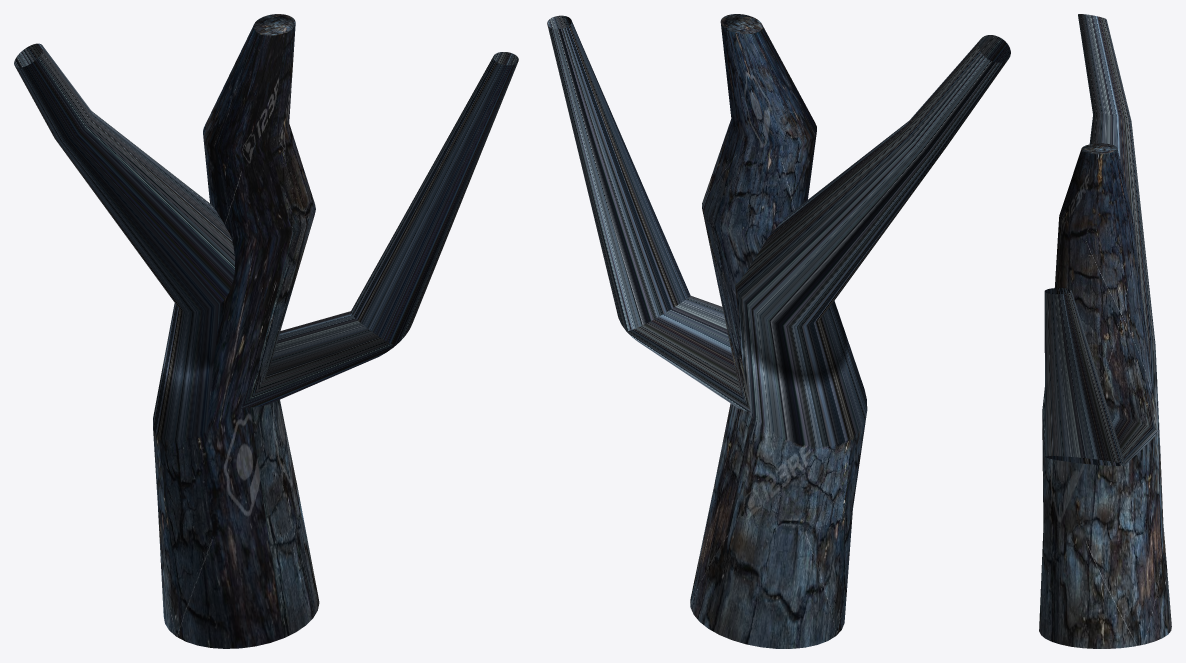
Rendered from Arvores02.fbx.
3 renders of one model, left to right at view 1: azimuth 30°, elevation 25°; view 2: azimuth 150°, elevation 25°; view 3: azimuth 270°, elevation 25°, orthographic. The views are drawn at different scales.
Parts seen in each view (by area): view 1: Cylinder.001; view 2: Cylinder.001; view 3: Cylinder.001.
Boxes of the visible parts, bbox=[...] form: Cylinder.001: bbox=[14, 14, 518, 648]; Cylinder.001: bbox=[547, 14, 1010, 648]; Cylinder.001: bbox=[1039, 14, 1171, 648].
Bounding box in the file's own units: 99.59 × 28.13 × 125.
1 material, 1 textured.
